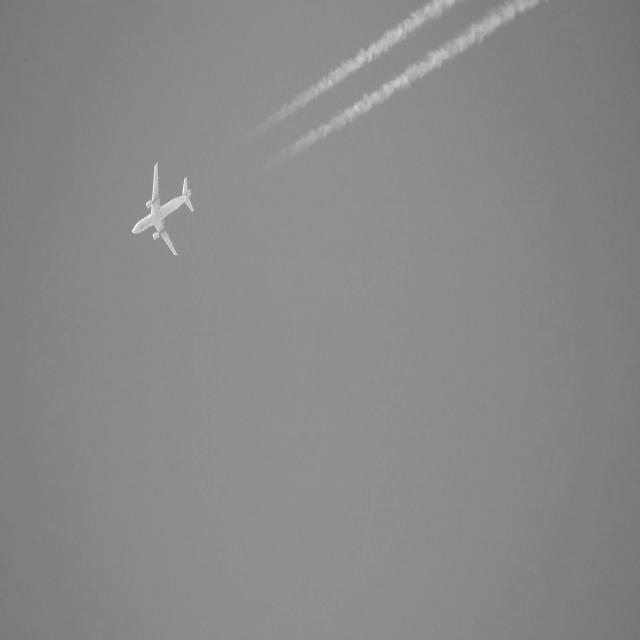aeroplane: (128, 159, 197, 264)
